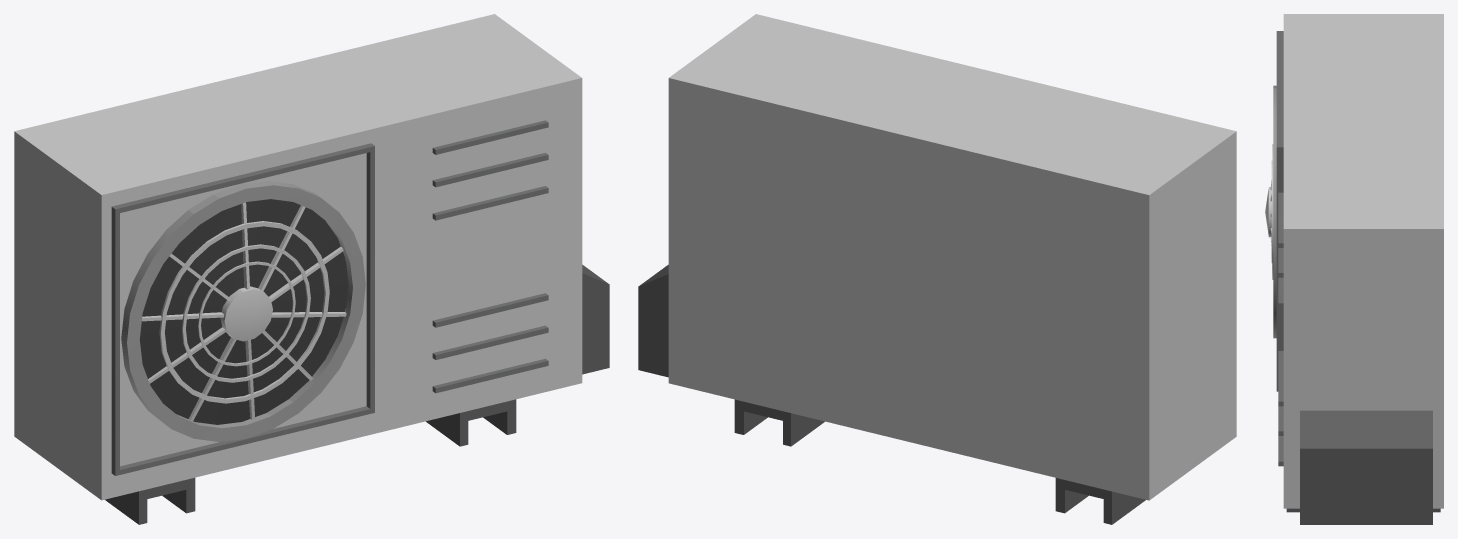
The model's file is AC Vent.FBX.
The picture shows the model from 3 angles, left to right: view 1: azimuth 30°, elevation 25°; view 2: azimuth 150°, elevation 25°; view 3: azimuth 270°, elevation 25°; orthographic projection. The views are drawn at different scales.
Visible parts, largest first — view 1: AC Vent; view 2: AC Vent; view 3: AC Vent.
Boxes of the visible parts, bbox=[...] form: AC Vent: bbox=[14, 14, 609, 524]; AC Vent: bbox=[638, 14, 1236, 524]; AC Vent: bbox=[1265, 14, 1443, 524].
Bounding box in the file's own units: 0.1248 × 0.0786 × 0.0408.
